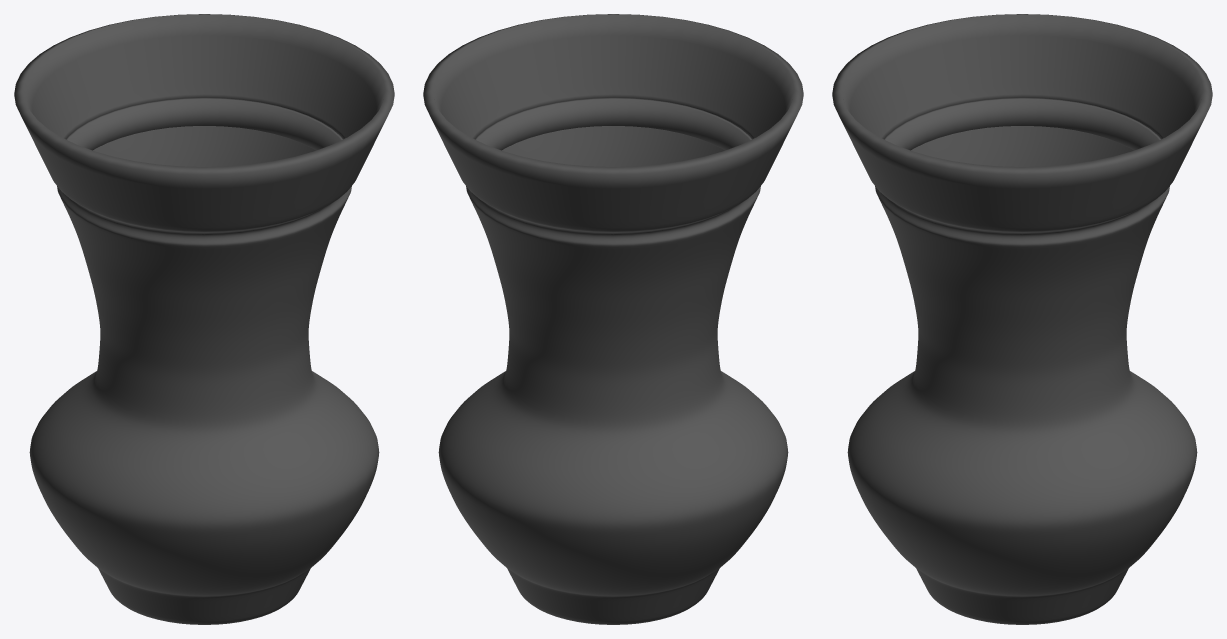
File: planet1.glb
3 views of the same model, side by side, from view 1: azimuth 30°, elevation 25°; view 2: azimuth 150°, elevation 25°; view 3: azimuth 270°, elevation 25° (orthographic).
Visible parts, largest first — view 1: Vase_Clay; view 2: Vase_Clay; view 3: Vase_Clay.
Part boxes in pixels (x1,y1,x2,y2): Vase_Clay: (14, 14, 394, 624); Vase_Clay: (423, 14, 803, 624); Vase_Clay: (832, 14, 1212, 624).
Size of the model in its own units: 0.7314 by 1.05 by 0.7314.
Materials: 1 (1 with a texture image).
